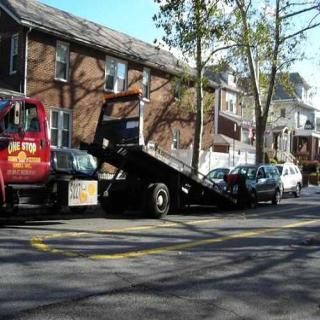Towing_truck: (79, 87, 245, 219), (0, 90, 100, 224)
